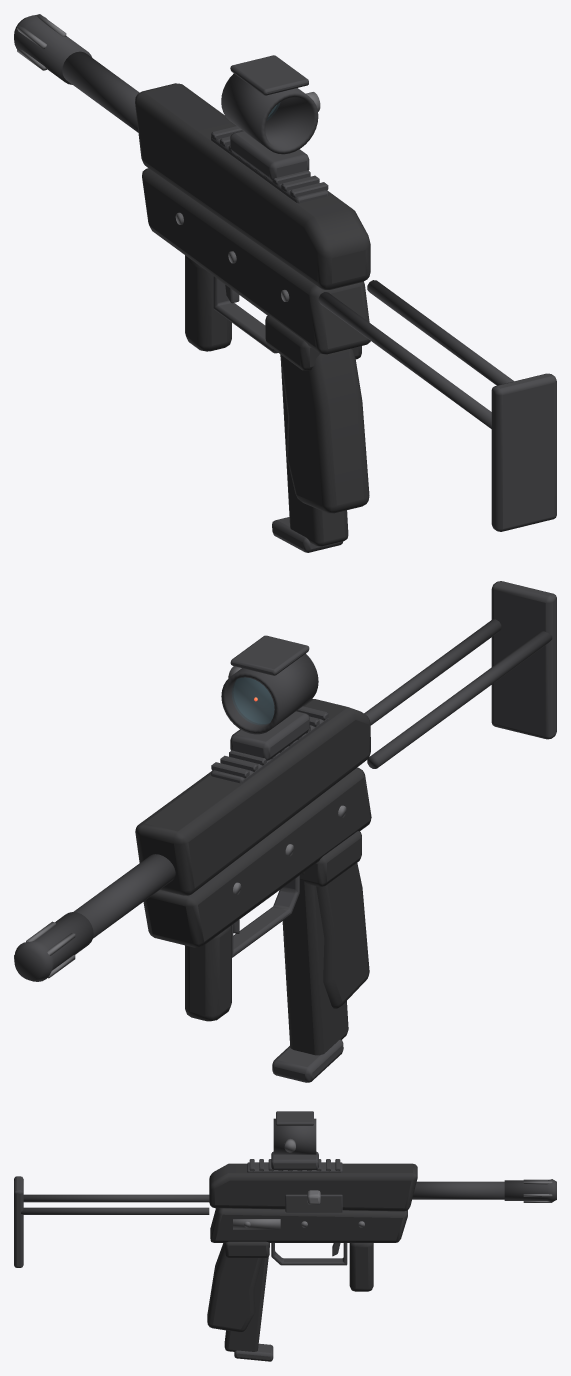
3 renders of one model, top to bottom at view 1: azimuth 30°, elevation 25°; view 2: azimuth 150°, elevation 25°; view 3: azimuth 270°, elevation 25°, orthographic. The views are drawn at different scales.
Parts seen in each view (by area): view 1: body, mag; view 2: body, mag; view 3: body, mag.
Boxes of the visible parts, bbox=[...] form: body: bbox=[14, 14, 556, 531]; mag: bbox=[272, 359, 348, 552]; body: bbox=[14, 581, 556, 1021]; mag: bbox=[272, 872, 348, 1082]; body: bbox=[14, 1111, 556, 1332]; mag: bbox=[224, 1243, 273, 1361].
Bounding box in the file's own units: 0.0474 × 0.2543 × 0.52.
